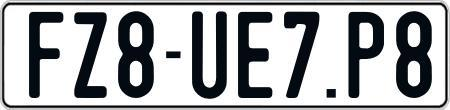7: (282, 9, 323, 97)
8: (394, 11, 434, 104), (115, 10, 157, 98)
E: (236, 10, 276, 96)
F: (27, 9, 62, 95)
P: (349, 12, 385, 104)
U: (190, 10, 231, 103)
Z: (73, 12, 109, 98)
